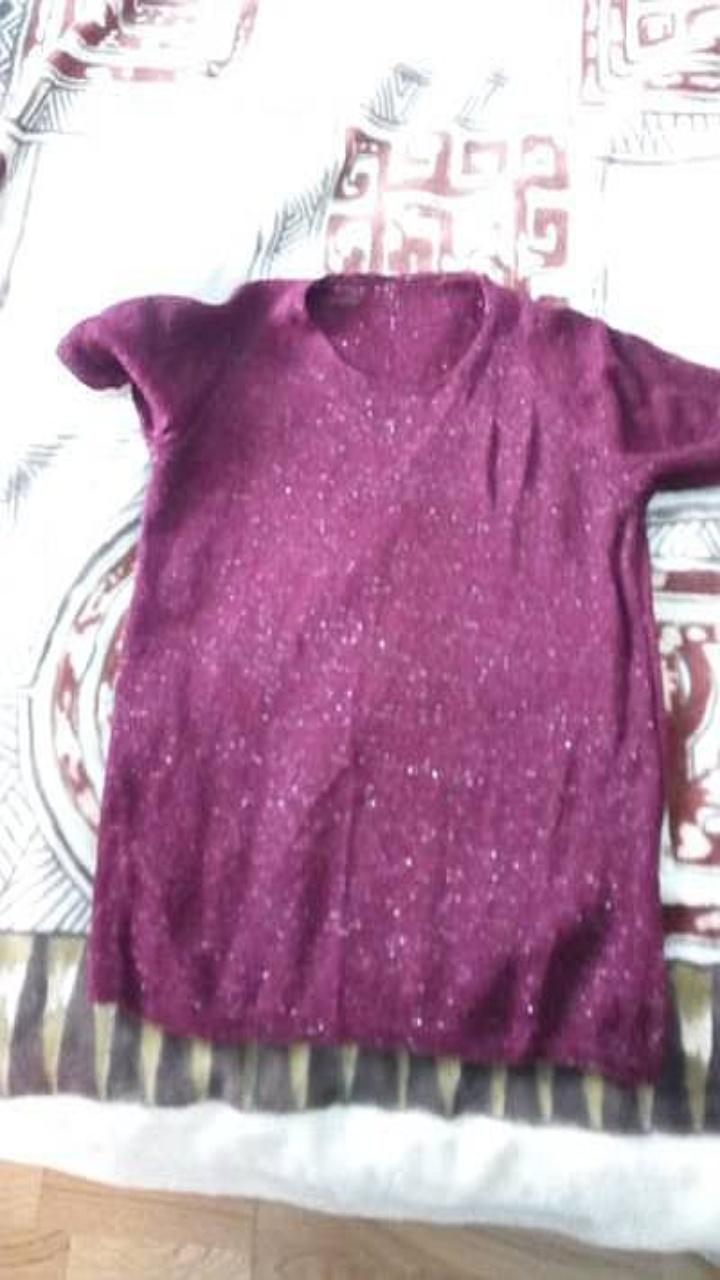T-Shirt: (61, 274, 719, 1081)
